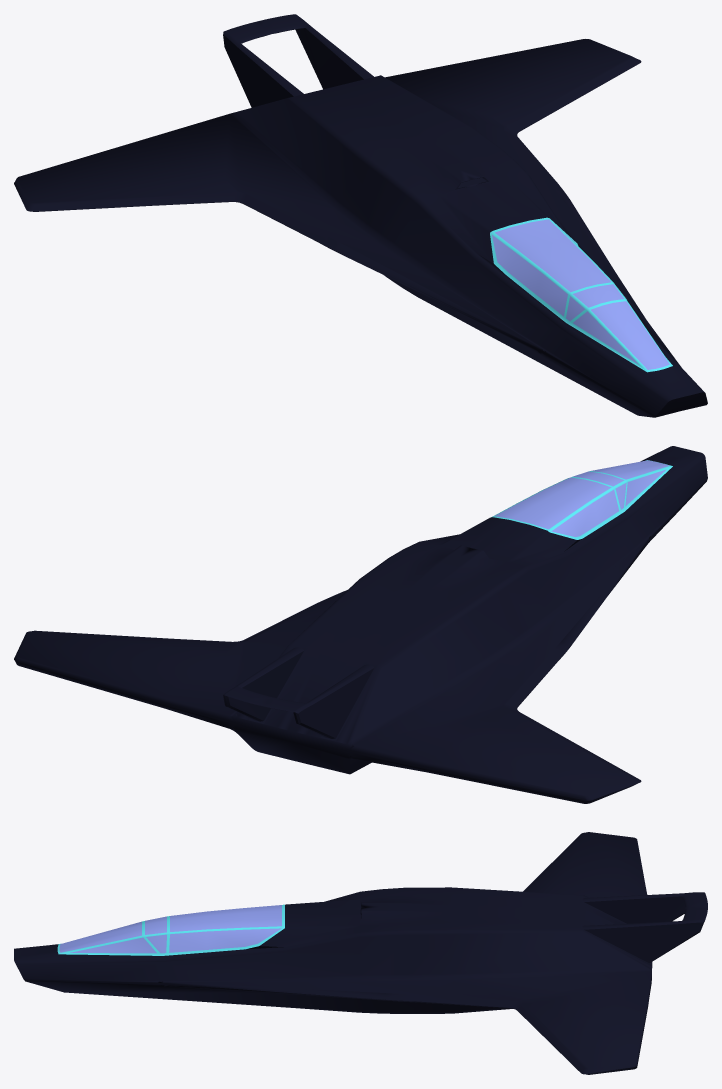
3 renders of one model, top to bottom at view 1: azimuth 30°, elevation 25°; view 2: azimuth 150°, elevation 25°; view 3: azimuth 270°, elevation 25°, orthographic. The views are drawn at different scales.
Visible parts, largest first — view 1: Boîte001; view 2: Boîte001; view 3: Boîte001.
Part boxes in pixels (x1=…): Boîte001: x1=14, y1=14, x2=707, y2=417; Boîte001: x1=14, y1=446, x2=707, y2=803; Boîte001: x1=14, y1=832, x2=707, y2=1074.
Bounding box in the file's own units: 23.15 × 3.92 × 28.1.
